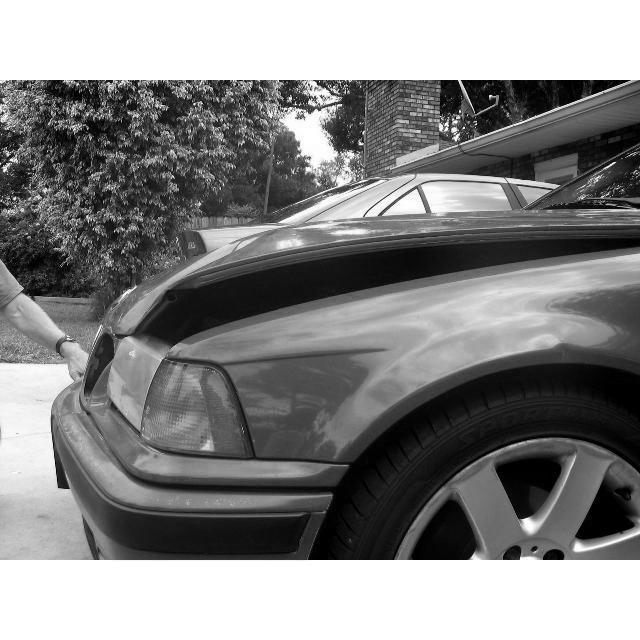bonnet-dent: (89, 174, 597, 315)
